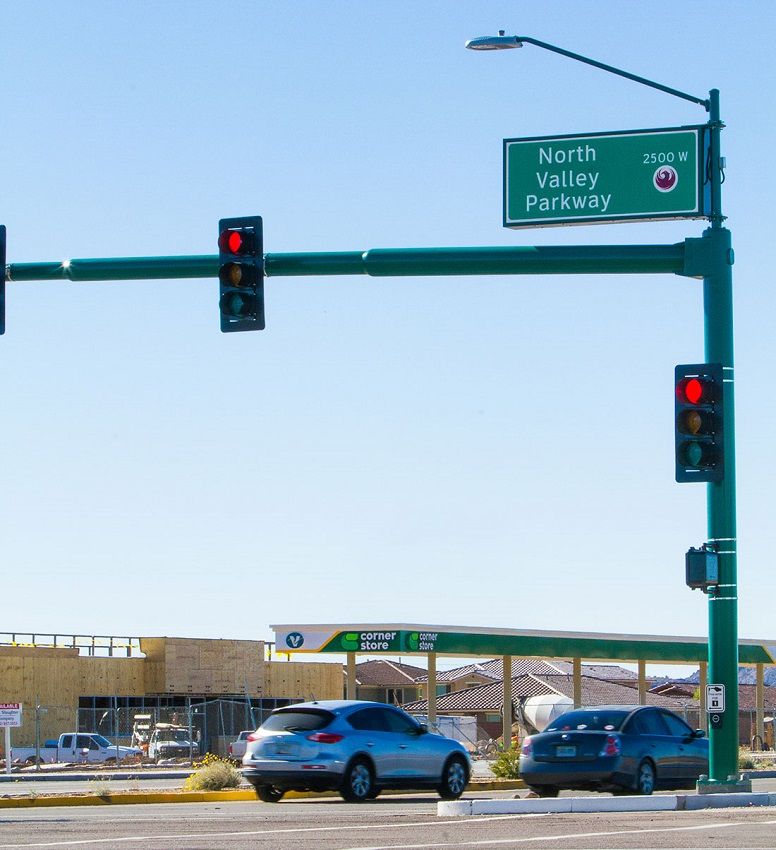traffic_light: (672, 361, 726, 485), (216, 214, 268, 334)
